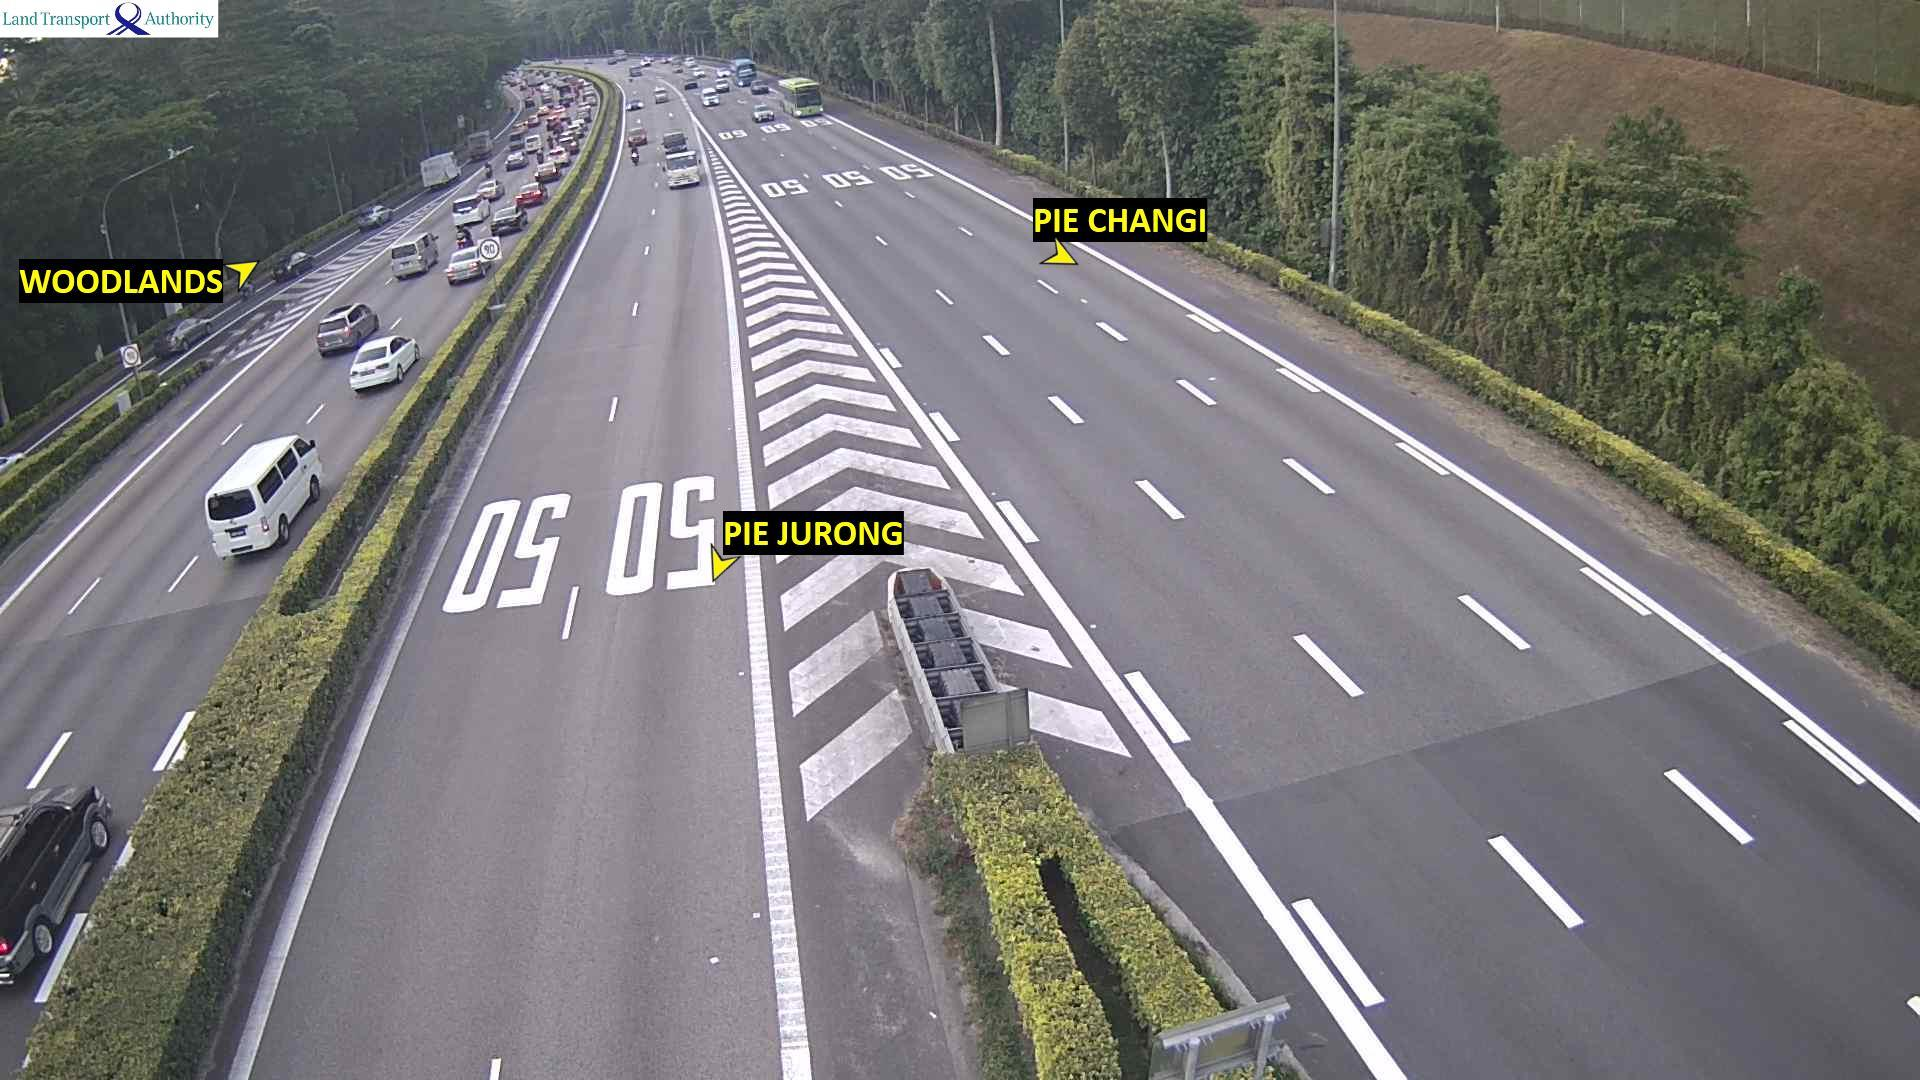incoming: (659, 153, 708, 187), (789, 79, 825, 123), (732, 63, 761, 88), (651, 86, 676, 105), (700, 91, 727, 109), (757, 109, 782, 127), (750, 79, 767, 94), (624, 99, 642, 111), (712, 79, 729, 91)
